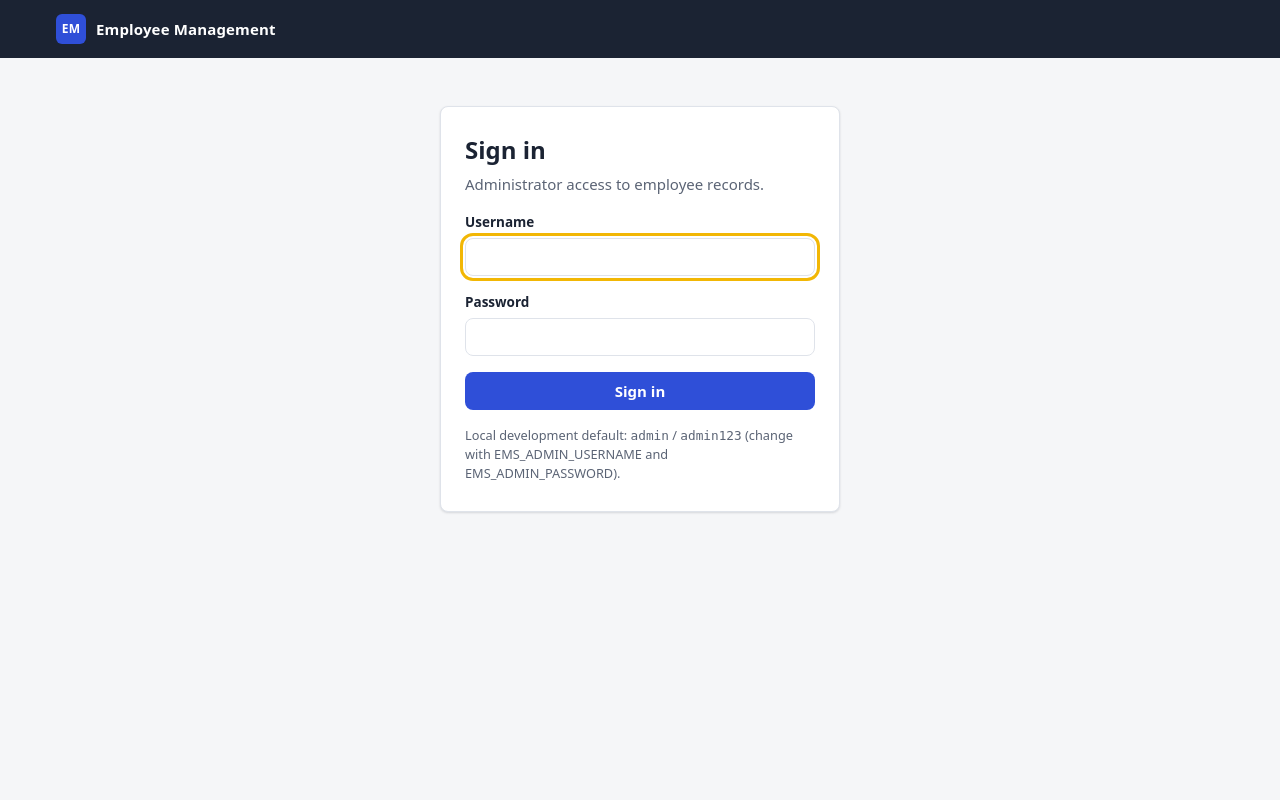
Scenario: login and logout › shows an error and stays signed out for a wrong password
Type "admin" into the field labelled "Username" at (640,257), box [465, 238, 815, 276]
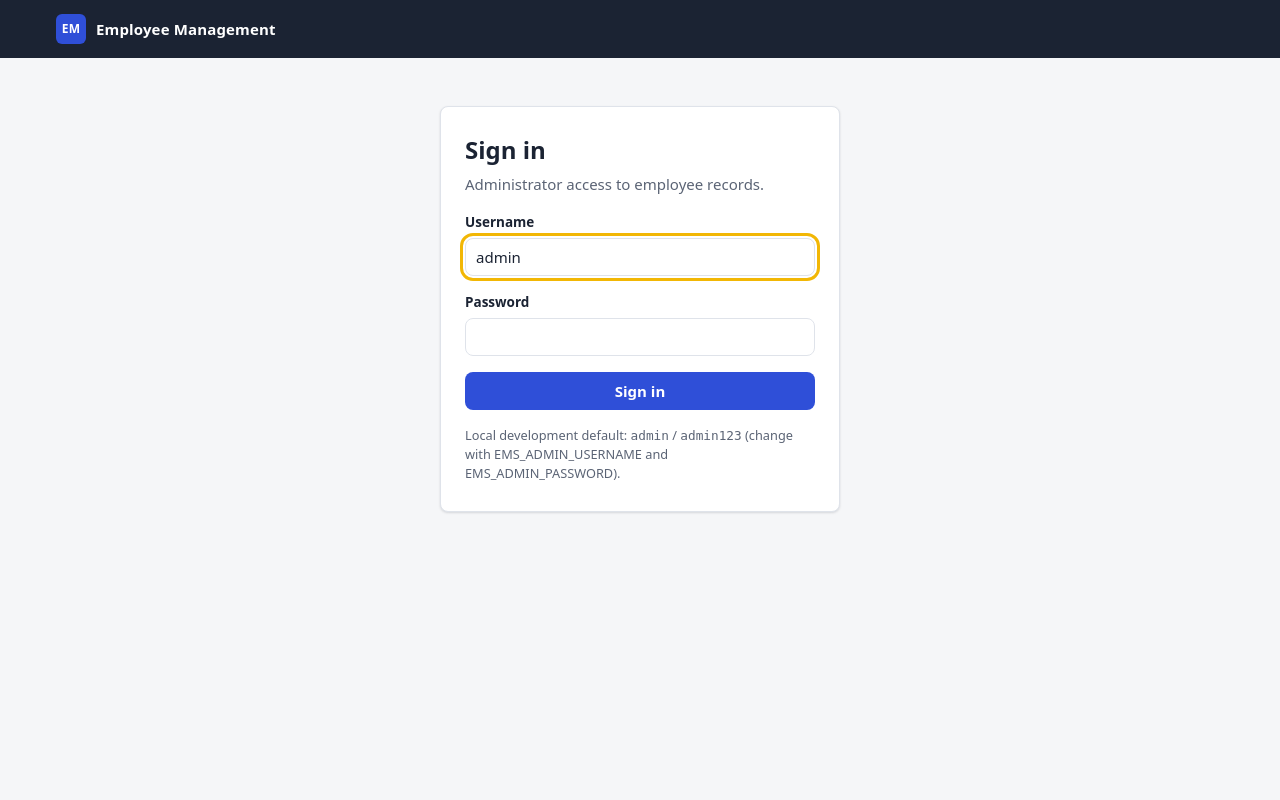
Type "wrong" into the password field labelled "Password" at (640,337), box [465, 318, 815, 356]
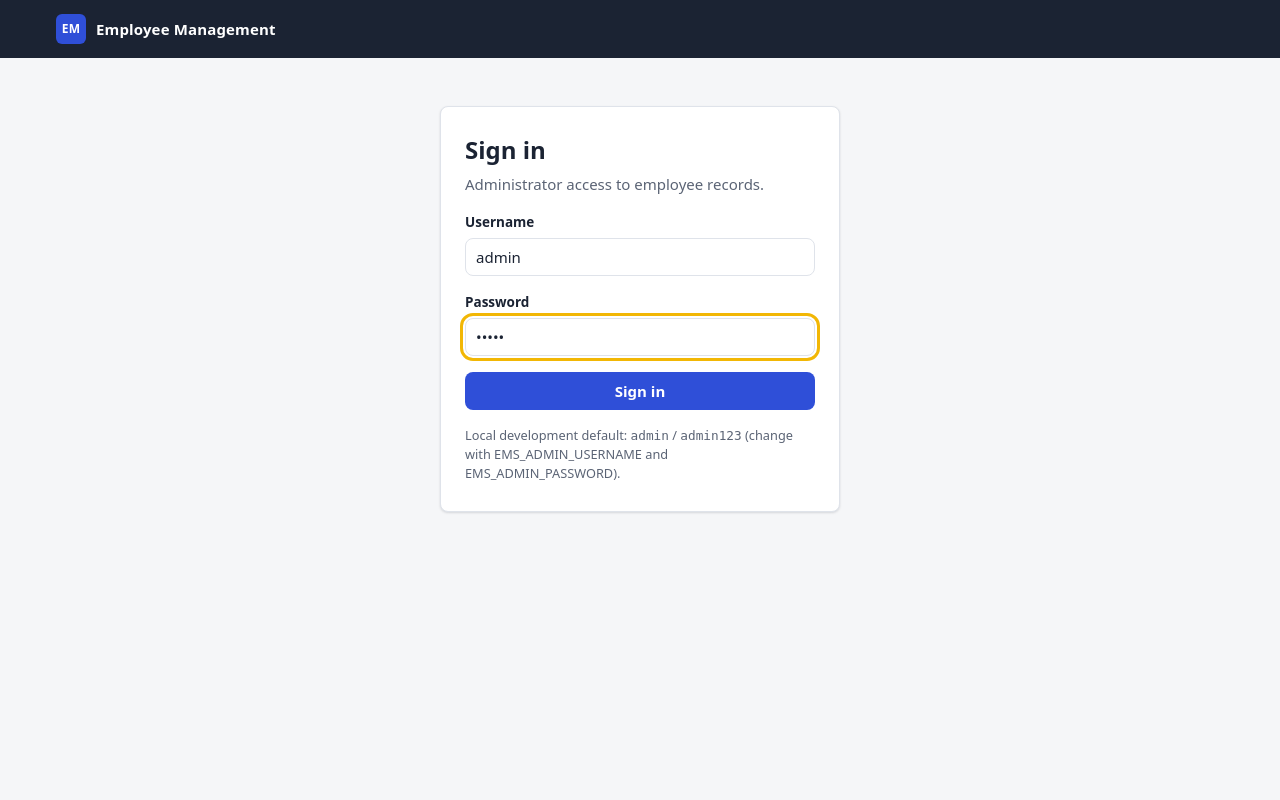
Click the button "Sign in" at (640,391), box [465, 372, 815, 410]
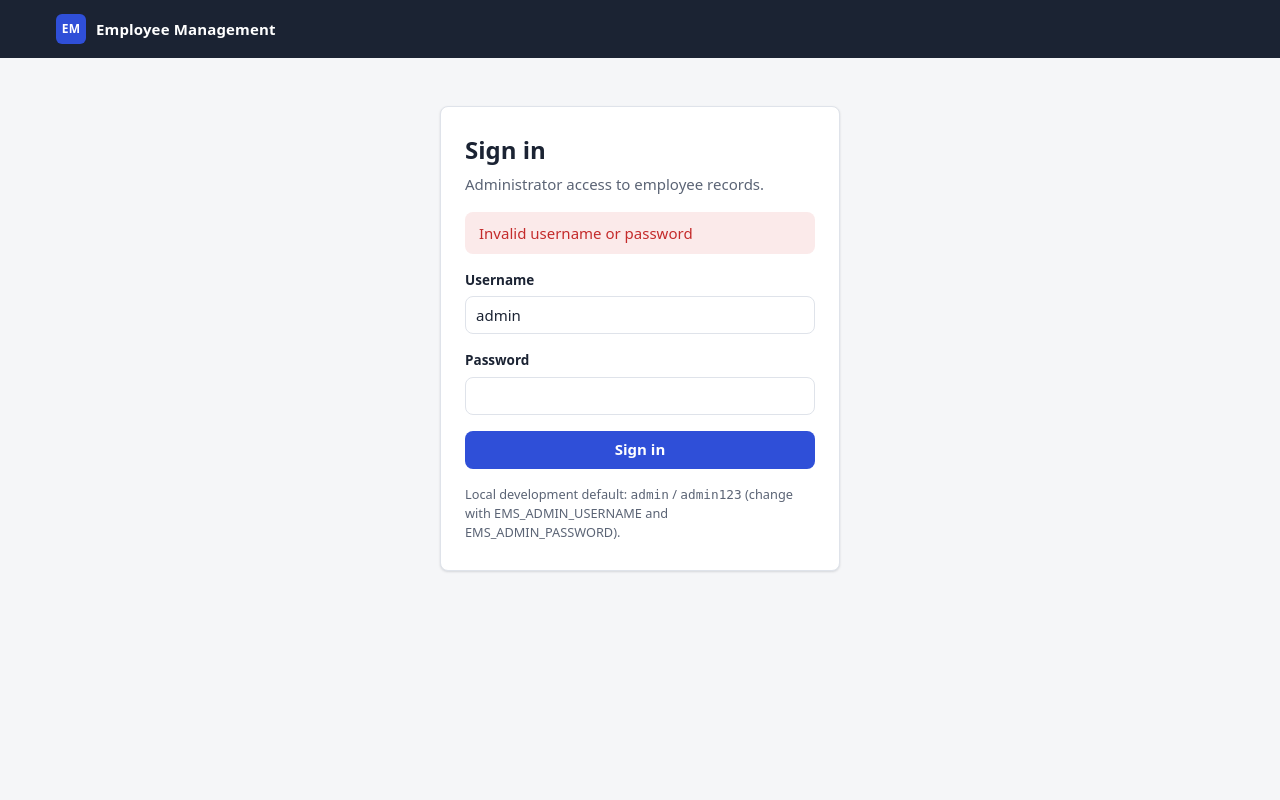
Check: the message reads "Invalid username or password", box [479, 222, 693, 242]
Check: the password field labelled "Password" is empty, box [465, 376, 815, 414]
